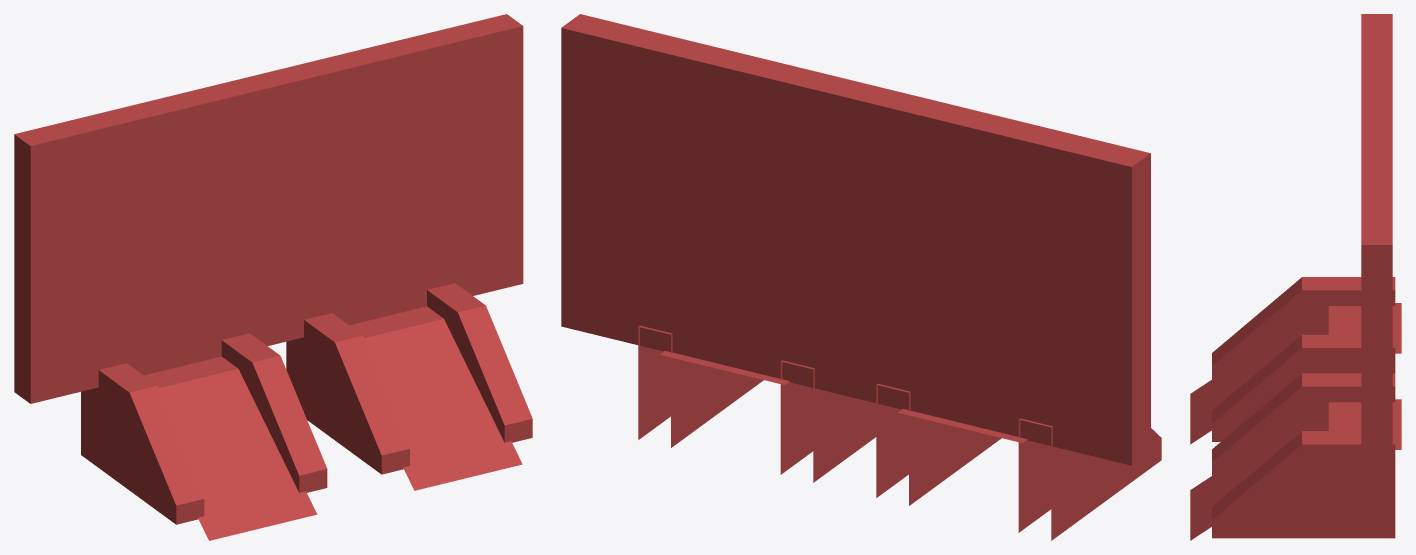
File: wall6a.FBX
3 renders of one model, left to right at view 1: azimuth 30°, elevation 25°; view 2: azimuth 150°, elevation 25°; view 3: azimuth 270°, elevation 25°, orthographic. The views are drawn at different scales.
Parts seen in each view (by area): view 1: Object299; view 2: Object299; view 3: Object299.
Part boxes in pixels (bbox=[...]): Object299: bbox=[14, 14, 532, 540]; Object299: bbox=[561, 14, 1161, 540]; Object299: bbox=[1190, 14, 1401, 540].
Size of the model in its own units: 8 by 5.45 by 3.09.
